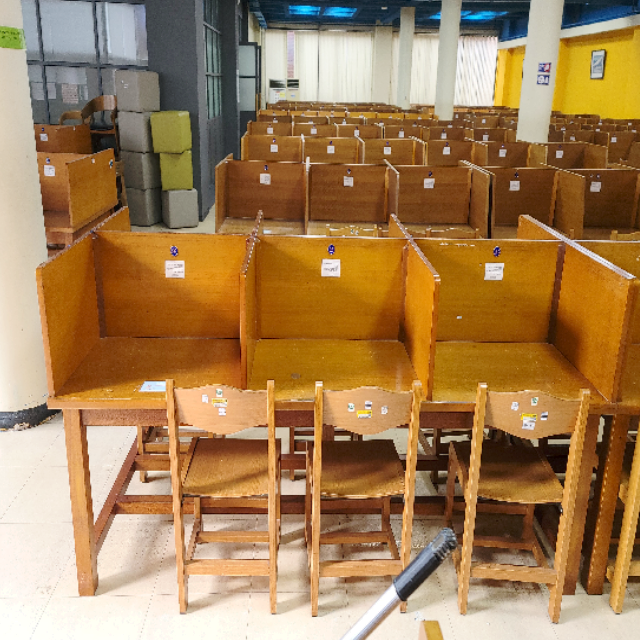empty: (45, 227, 241, 505), (444, 214, 618, 504), (249, 224, 433, 492)
